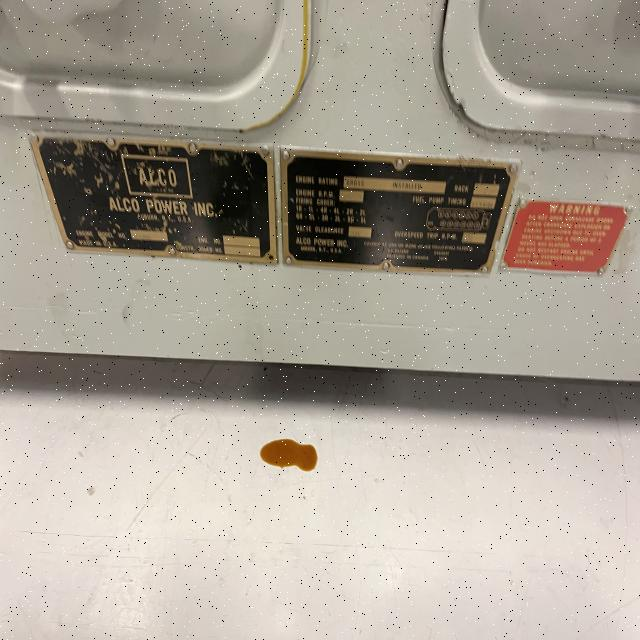Oil Leak: (242, 0, 337, 141), (258, 434, 320, 474)
